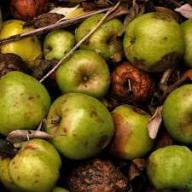apple: (48, 93, 112, 153), (124, 9, 182, 66), (0, 70, 51, 132), (107, 102, 158, 157), (76, 8, 127, 60), (8, 139, 60, 186), (58, 50, 109, 94), (145, 145, 189, 189)
